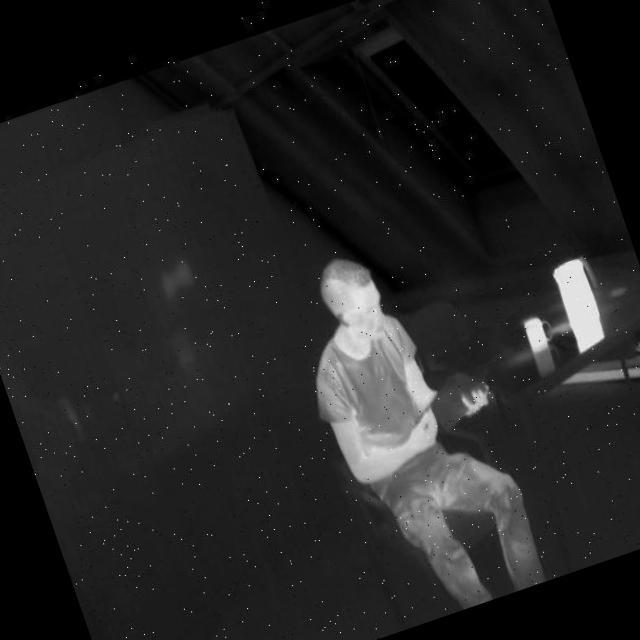person: (270, 215, 558, 633)
